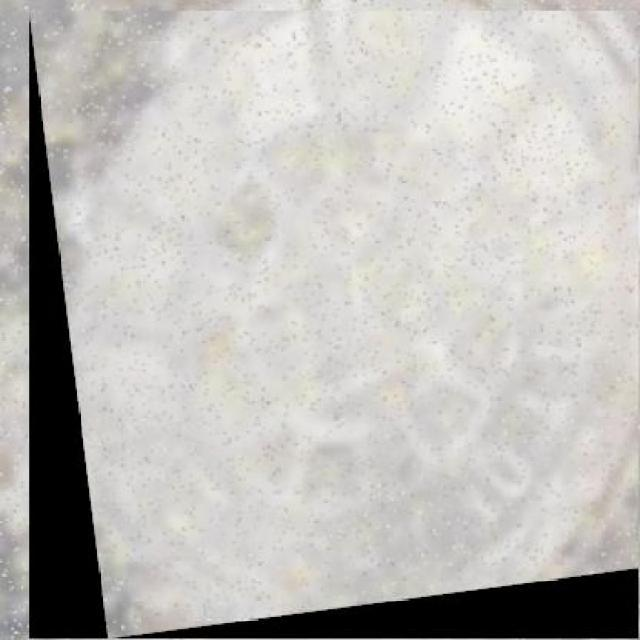Manhole: (29, 11, 638, 638)
